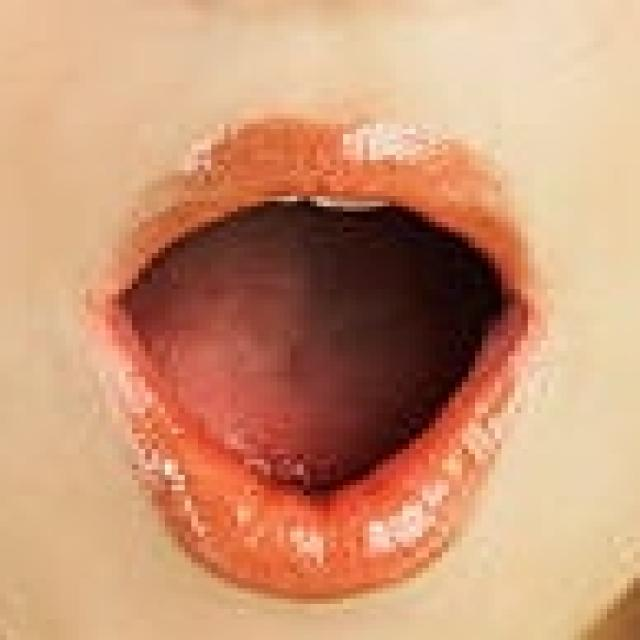open-mouth: (79, 108, 548, 604)
